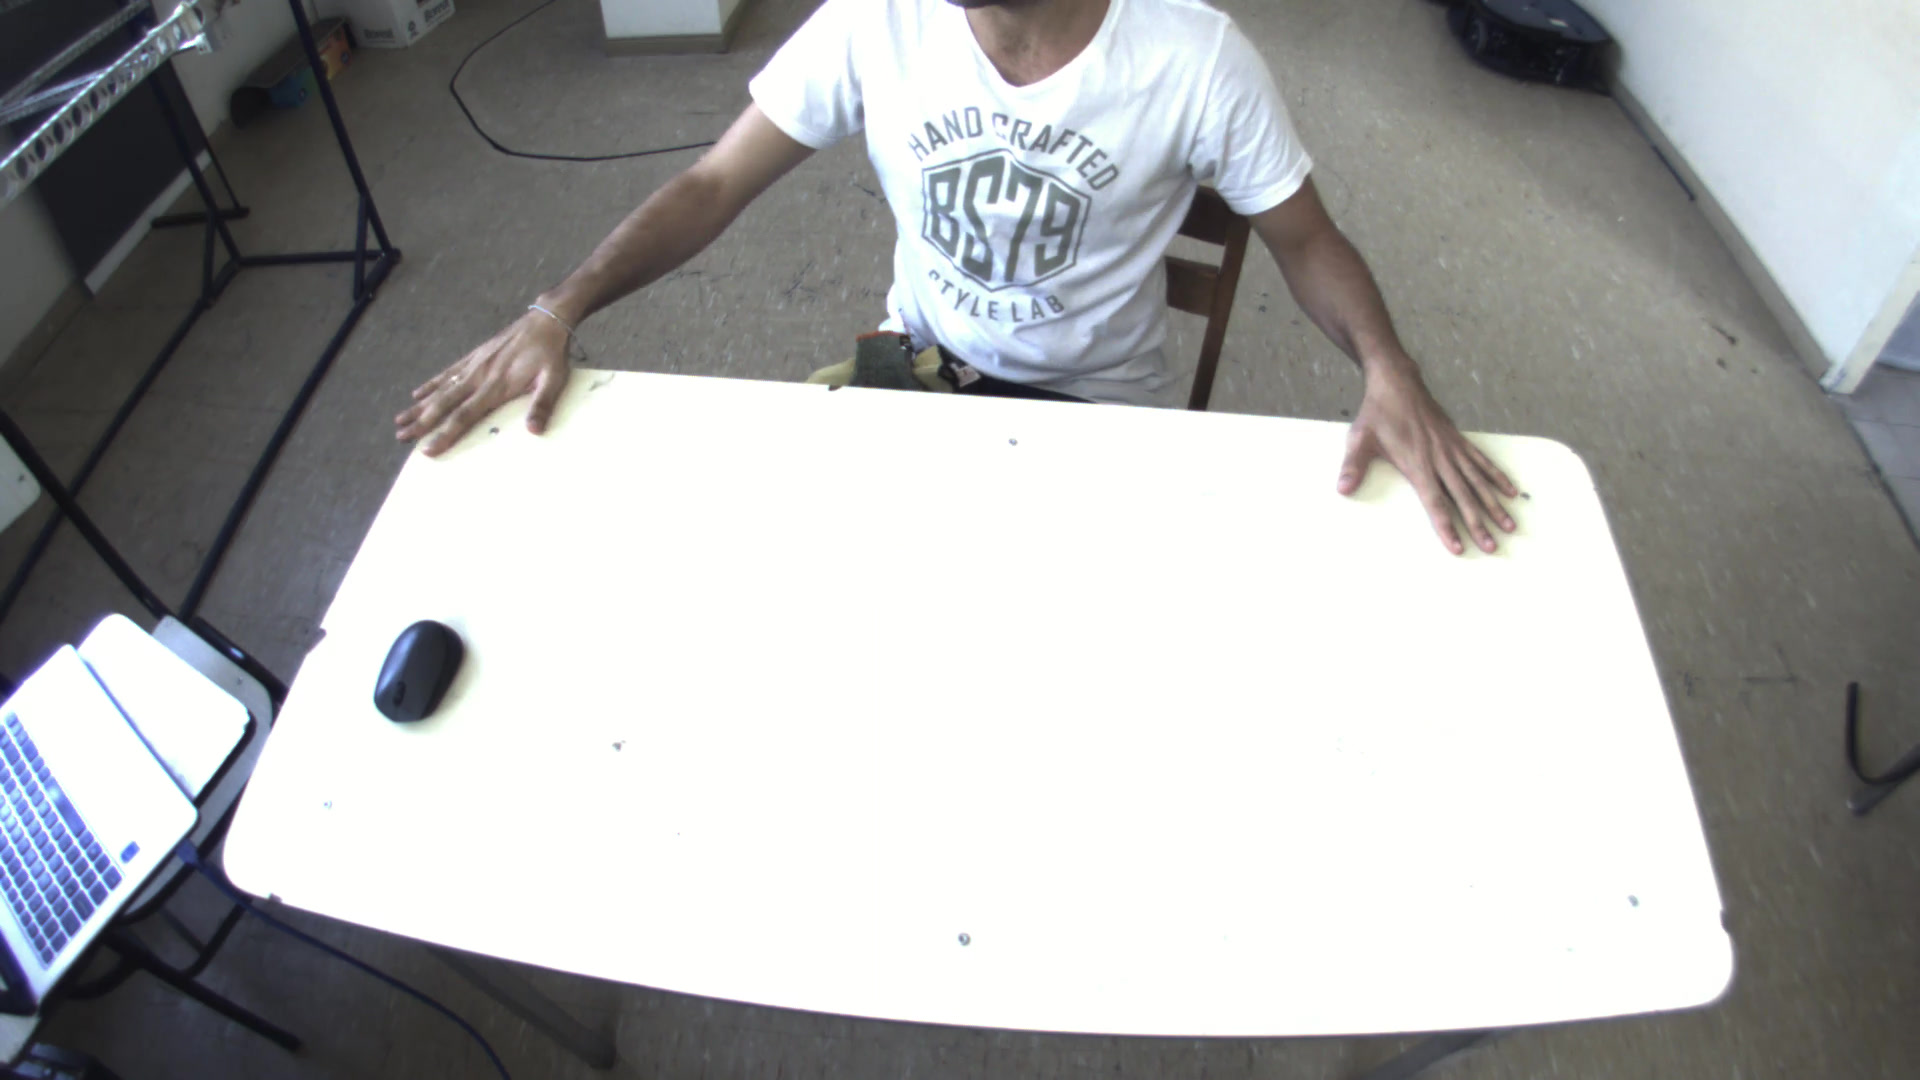hand: (1335, 368, 1549, 560), (376, 295, 582, 471)
